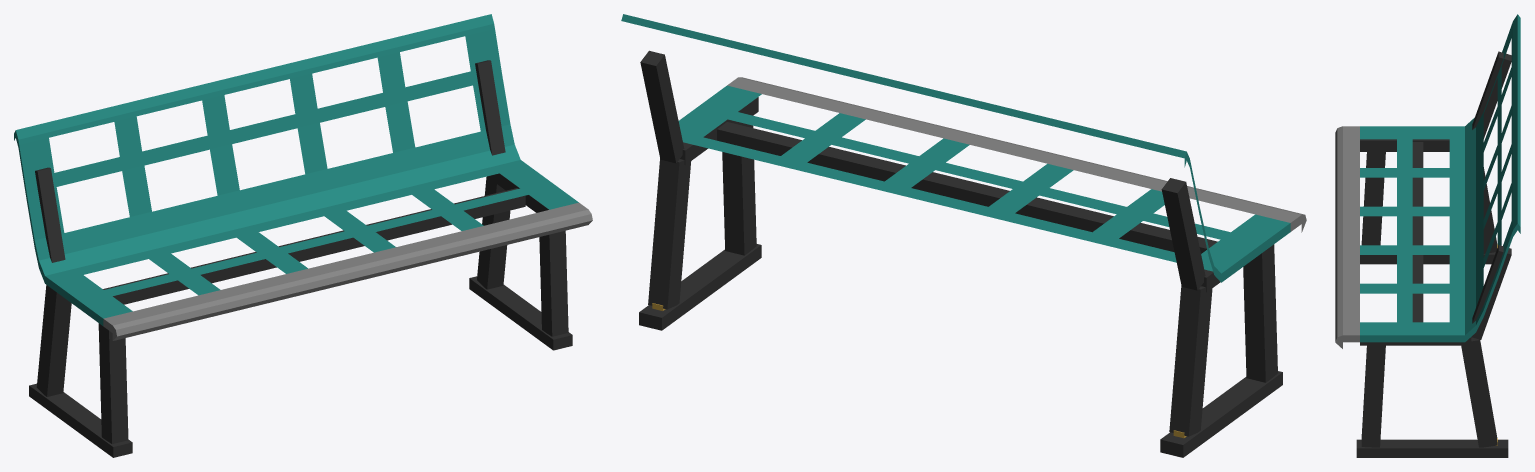
The model's file is bank_metal.glb.
The picture shows the model from 3 angles, left to right: view 1: azimuth 30°, elevation 25°; view 2: azimuth 150°, elevation 25°; view 3: azimuth 270°, elevation 25°; orthographic projection. The views are drawn at different scales.
Parts seen in each view (by area): view 1: bank_metal; view 2: bank_metal; view 3: bank_metal.
Boxes of the visible parts, <box> form: bank_metal: <box>14,14,592,457</box>; bank_metal: <box>621,14,1306,457</box>; bank_metal: <box>1335,14,1520,457</box>.
Bounding box in the file's own units: 1.6 × 0.85 × 0.6.
